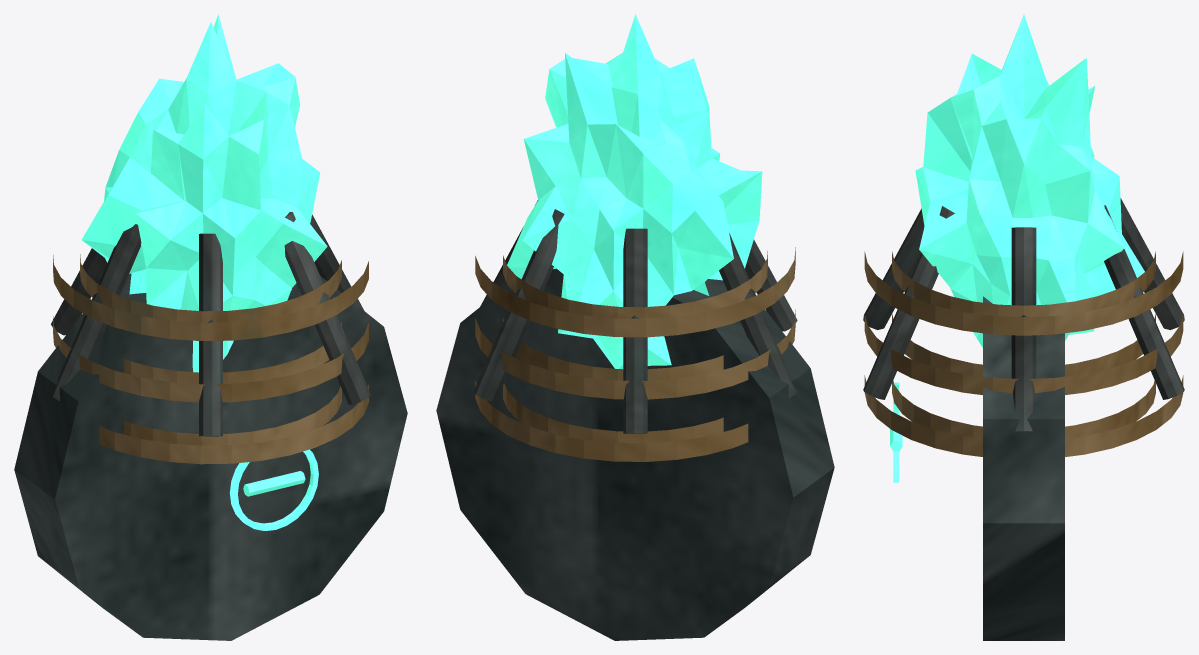
File: 0977_offering_relic_02.glb
3 views of the same model, side by side, from view 1: azimuth 30°, elevation 25°; view 2: azimuth 150°, elevation 25°; view 3: azimuth 270°, elevation 25° (orthographic).
Visible parts, largest first — view 1: stone_dark, glow, brass, iron; view 2: stone_dark, glow, brass, iron; view 3: glow, brass, stone_dark, iron.
Boxes of the visible parts, left/top/right/bottom form: stone_dark: left=14, top=273, right=407, bottom=640; glow: left=81, top=14, right=327, bottom=530; brass: left=53, top=254, right=368, bottom=464; iron: left=51, top=212, right=370, bottom=436; stone_dark: left=436, top=268, right=834, bottom=640; glow: left=507, top=14, right=762, bottom=369; brass: left=475, top=247, right=795, bottom=461; iron: left=473, top=200, right=797, bottom=433; glow: left=890, top=14, right=1144, bottom=482; brass: left=864, top=251, right=1183, bottom=456; stone_dark: left=983, top=296, right=1064, bottom=640; iron: left=863, top=198, right=1184, bottom=431.
Size of the model in its own units: 0.9 by 1.47 by 0.7056.
Materials: 4 (4 with a texture image).
